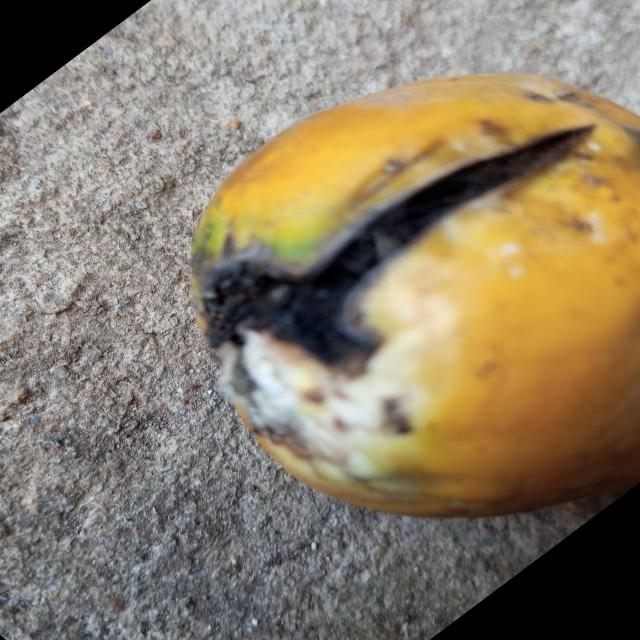damaged: (191, 75, 640, 517)
